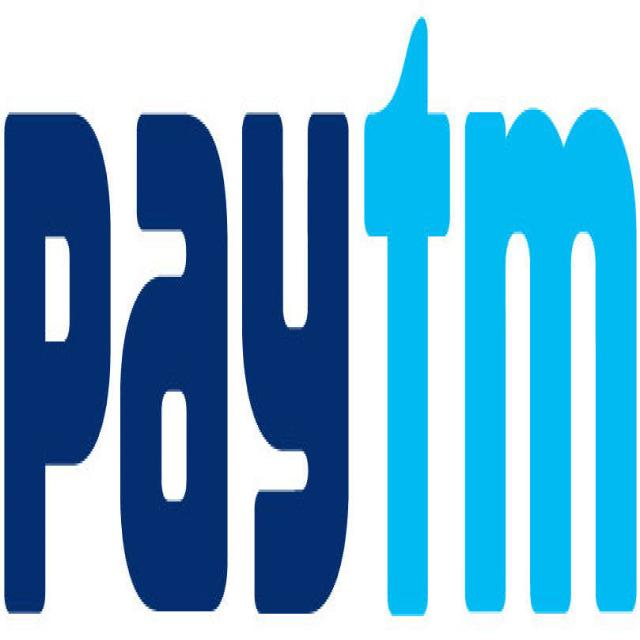fully_visible: (1, 6, 640, 627)
